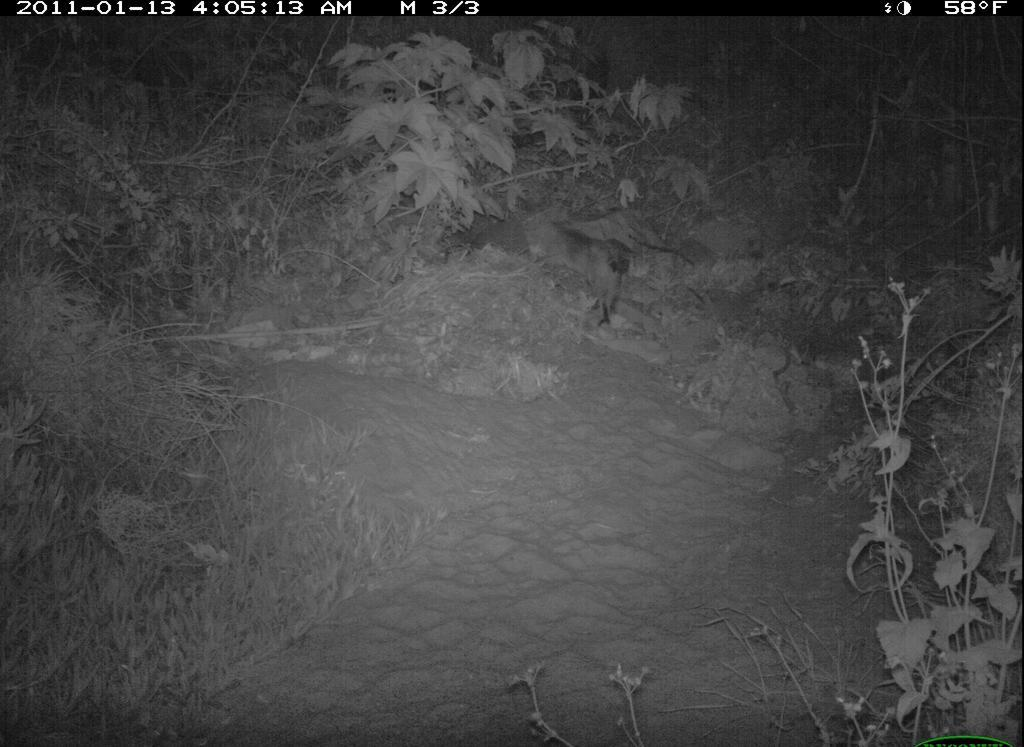bobcat: (541, 214, 641, 326)
